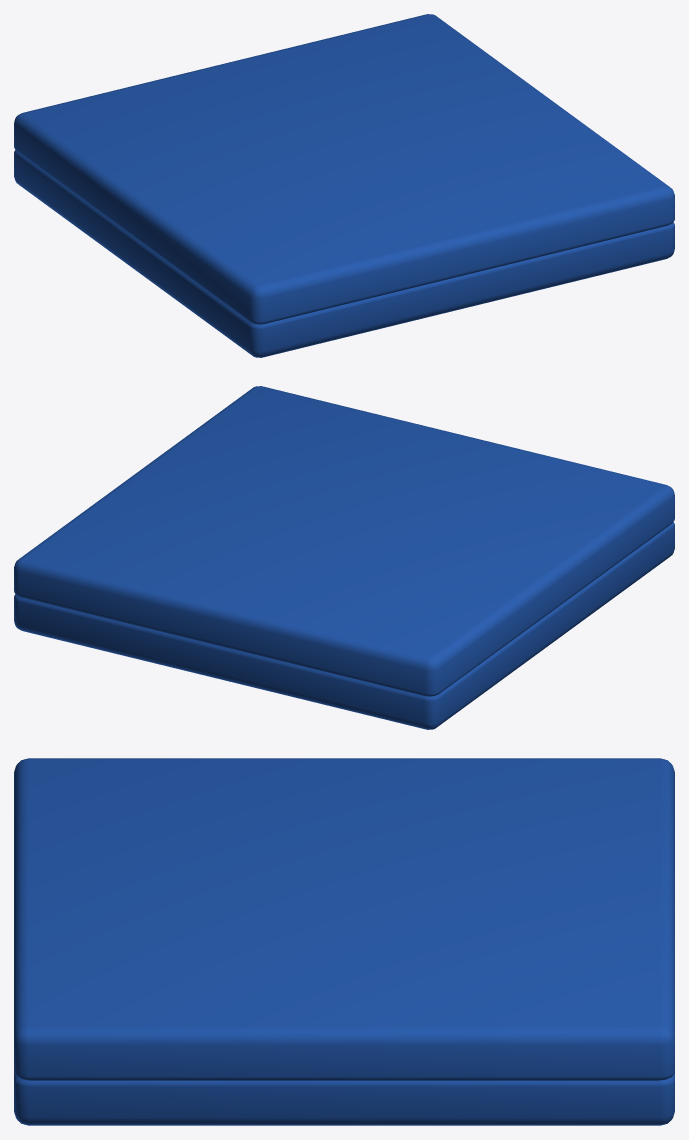
The model's file is Platform_SquidGamesTheme.fbx.
3 renders of one model, top to bottom at view 1: azimuth 30°, elevation 25°; view 2: azimuth 150°, elevation 25°; view 3: azimuth 270°, elevation 25°, orthographic. The views are drawn at different scales.
Visible parts, largest first — view 1: tileLarge_teamBlue; view 2: tileLarge_teamBlue; view 3: tileLarge_teamBlue.
Boxes of the visible parts, left/top/right/bottom form: tileLarge_teamBlue: left=14, top=14, right=674, bottom=357; tileLarge_teamBlue: left=14, top=386, right=674, bottom=729; tileLarge_teamBlue: left=14, top=758, right=674, bottom=1125.
Size of the model in its own units: 4.8 by 0.78 by 4.8.
